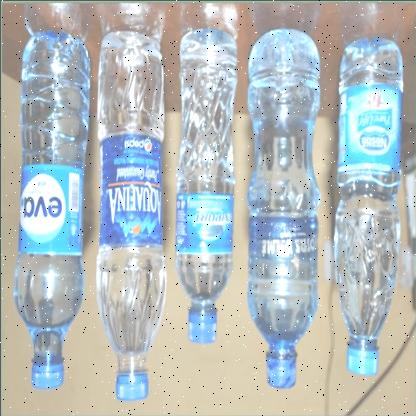Plastic Bottle: (12, 30, 88, 388), (247, 26, 320, 388), (96, 30, 164, 401), (334, 36, 402, 374), (174, 26, 236, 342)
